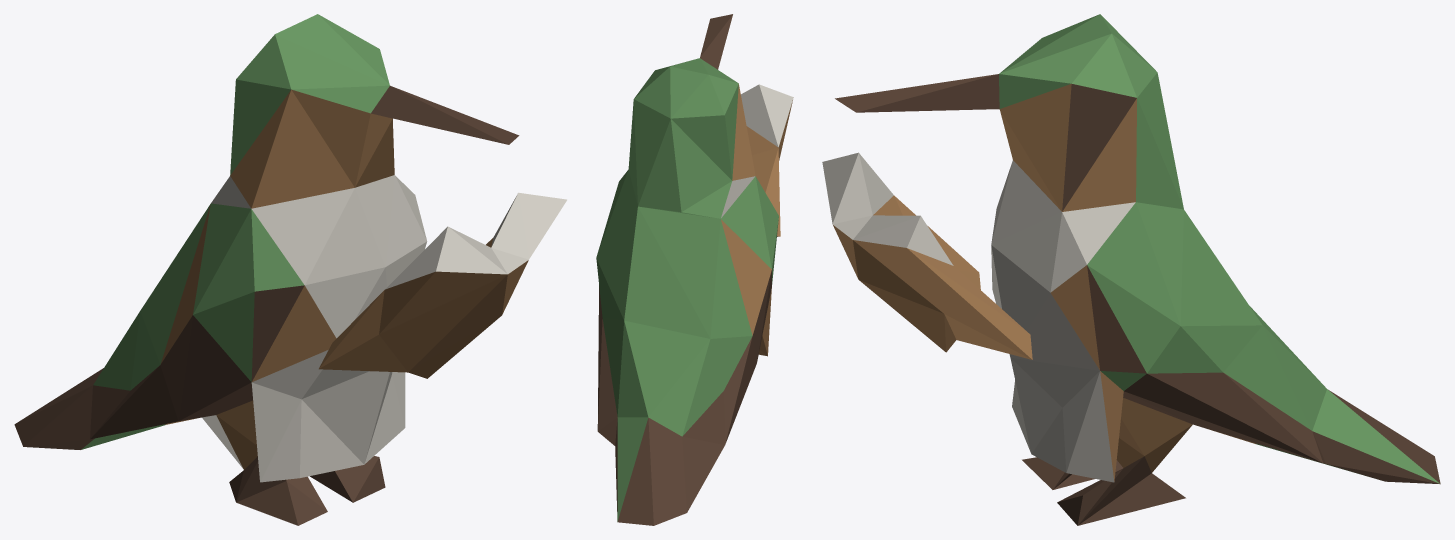
The picture shows the model from 3 angles, left to right: view 1: azimuth 30°, elevation 25°; view 2: azimuth 150°, elevation 25°; view 3: azimuth 270°, elevation 25°; orthographic projection. The views are drawn at different scales.
Parts seen in each view (by area): view 1: lion-200.001; view 2: lion-200.001; view 3: lion-200.001.
Part boxes in pixels (x1,y1,x2,y2): lion-200.001: (14,14,566,525); lion-200.001: (596,14,793,525); lion-200.001: (822,14,1440,525).
Size of the model in its own units: 0.5556 by 0.8695 by 0.9845.
